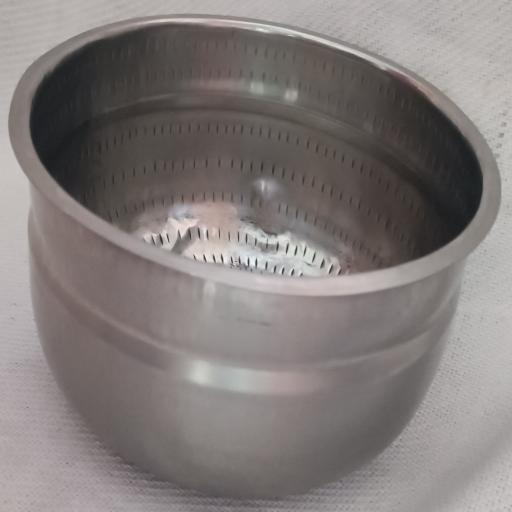vessel: (8, 16, 500, 499)
